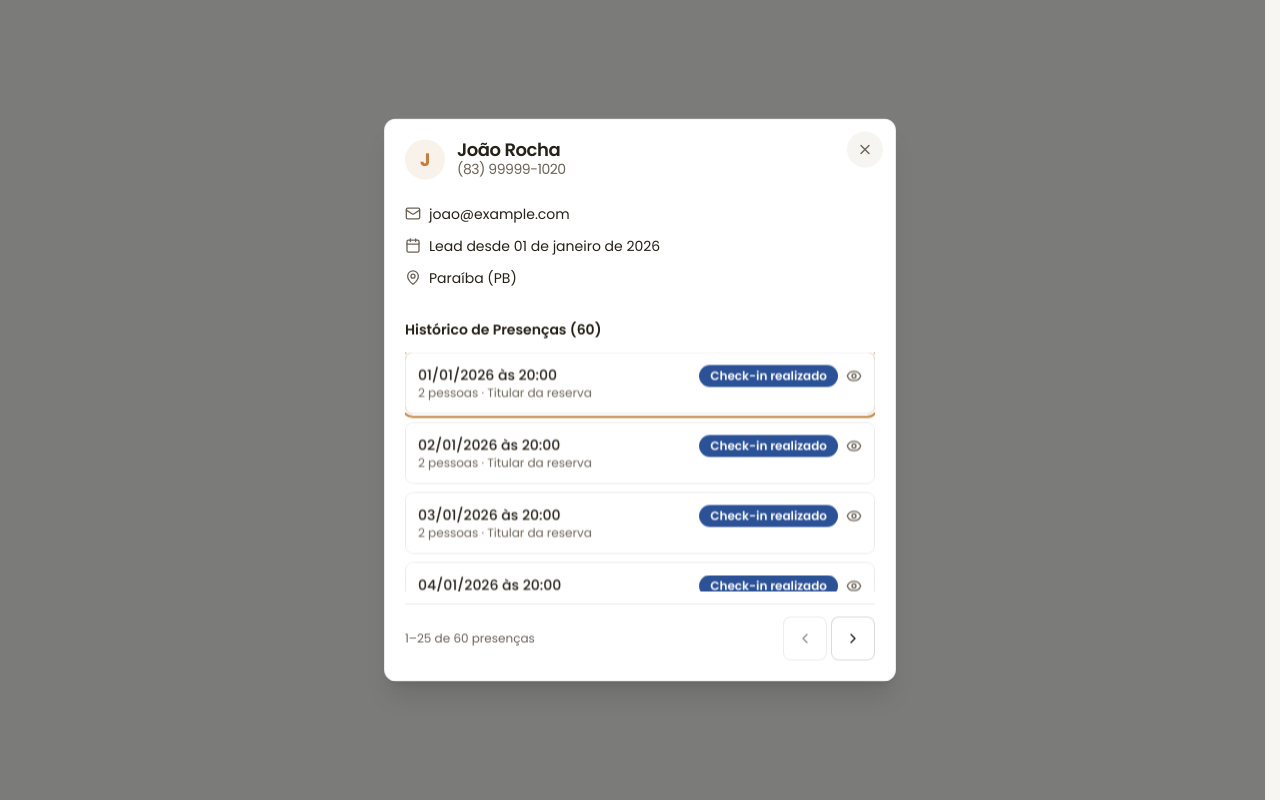
it: LeadProfileDialog › mantém o histórico integral, mas renderiza somente 25 presenças por página
This screenshot has width=1280, height=800.
Expected: the heading "Histórico de Presenças (60)" is shown, [405,320,602,340]
Expected: the text "1–25 de 60 presenças" is shown, [405,630,535,646]
Step 1. Click the button named "Próxima página do histórico" → {"x": 853, "y": 638}, box [831,616,875,660]
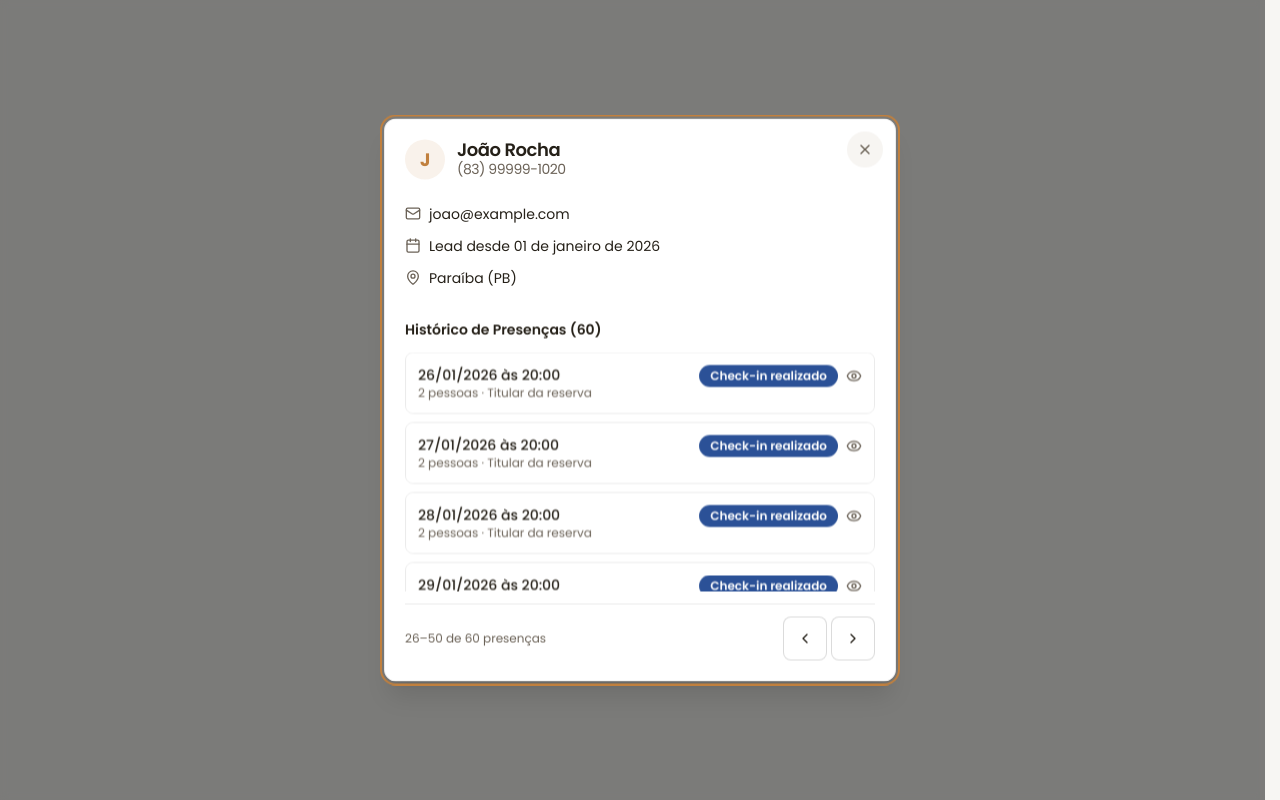
Result: the text "26–50 de 60 presenças" is shown at [405,630,546,646]
Result: the button with aria-label "Abrir detalhes da presença de 26/01/2026" is shown at [405,352,875,414]
